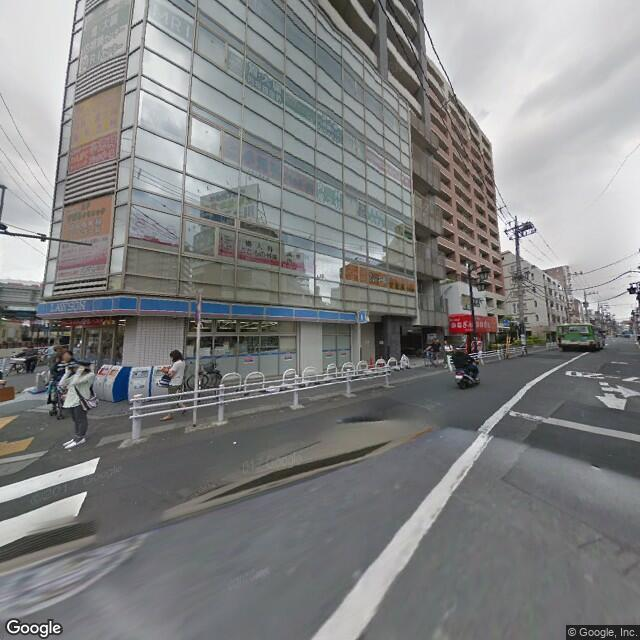lawson: (33, 295, 358, 331), (352, 306, 371, 324)
